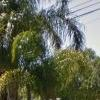Palm tree: (5, 4, 52, 100)
